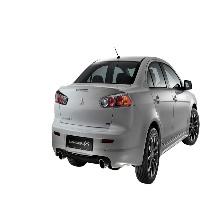no damage: (51, 56, 201, 185)
